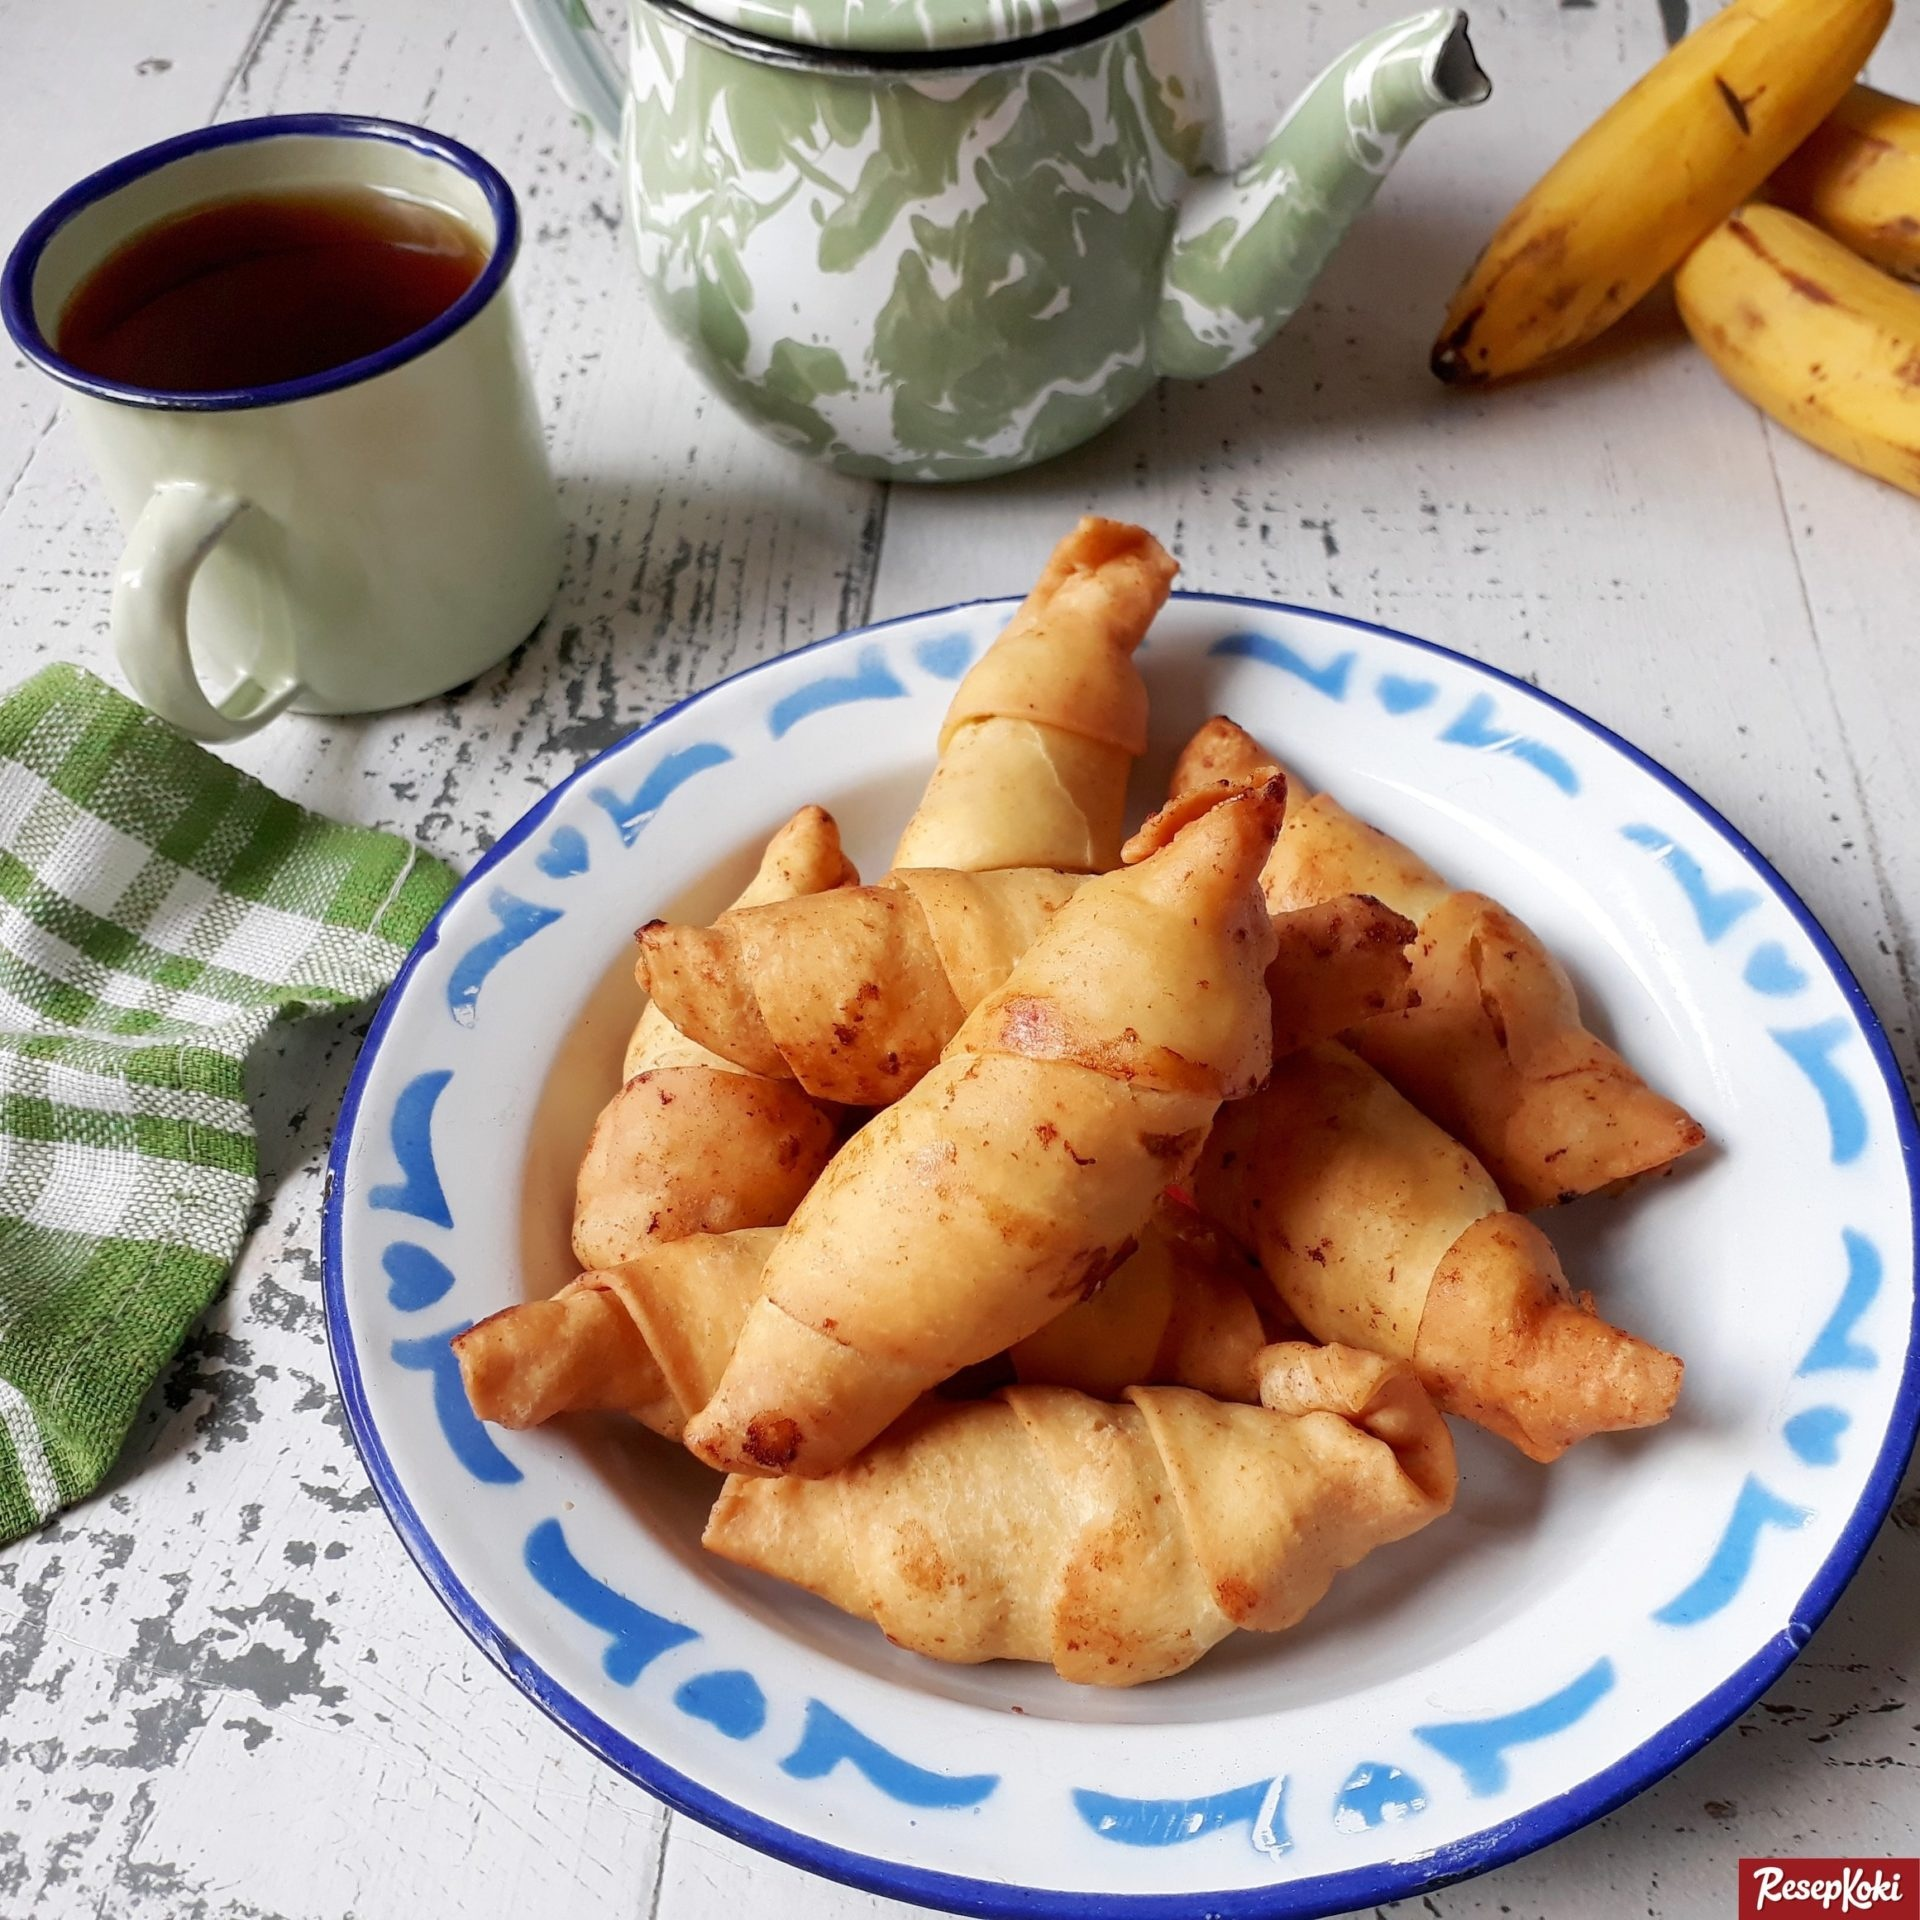pisang_molen: (679, 761, 1276, 1477), (723, 1349, 1459, 1686)
